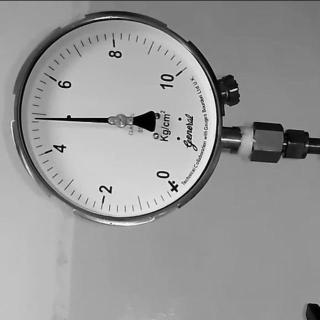gauge: (5, 0, 225, 268), (157, 168, 181, 194), (166, 65, 188, 85), (302, 300, 320, 320), (112, 113, 128, 129), (33, 114, 43, 122)
